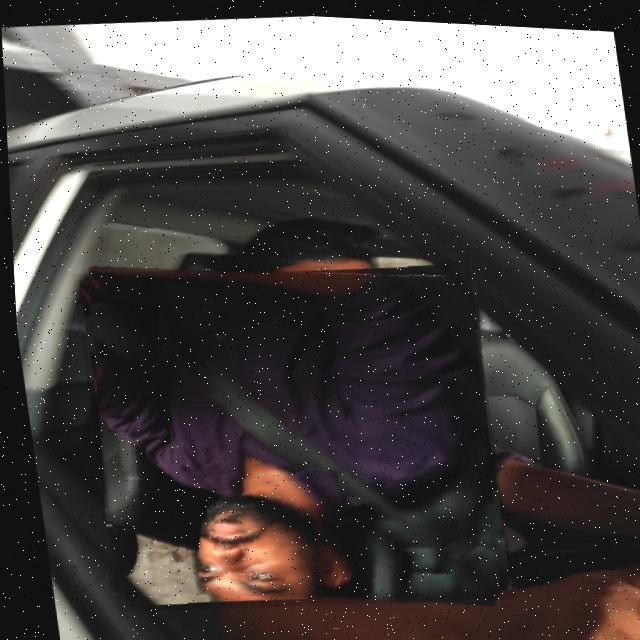seatbelt: (67, 238, 510, 627)
